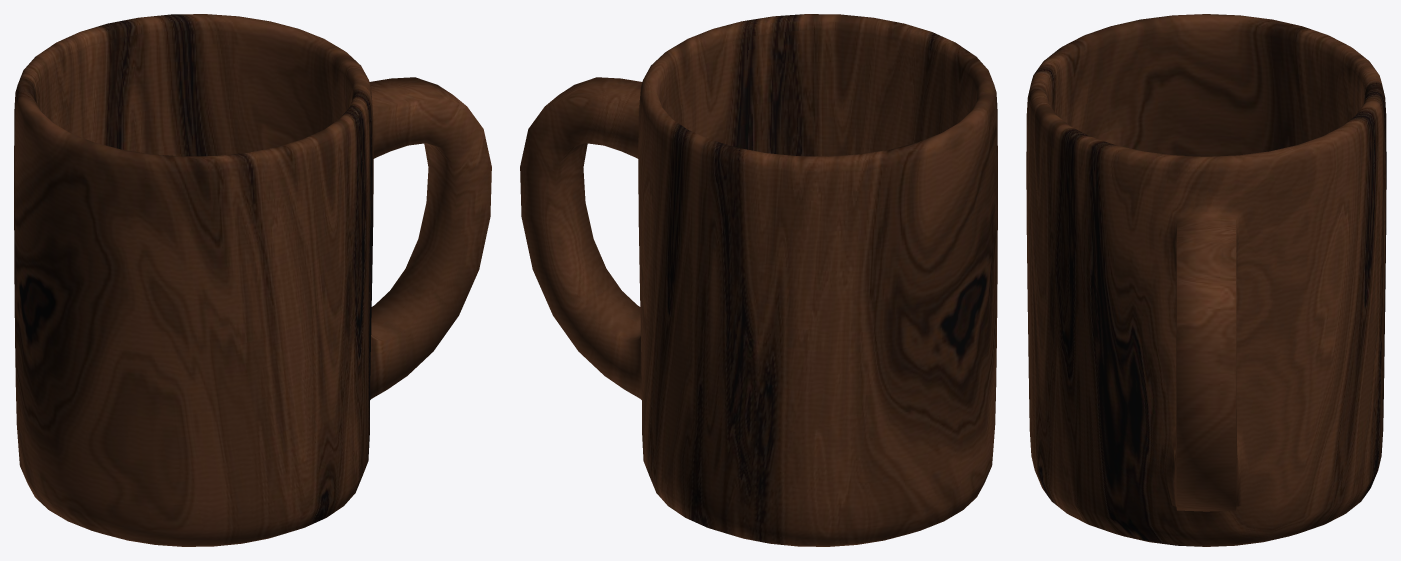
The model's file is Cup_1.fbx.
The picture shows the model from 3 angles, left to right: view 1: azimuth 30°, elevation 25°; view 2: azimuth 150°, elevation 25°; view 3: azimuth 270°, elevation 25°; orthographic projection.
Parts seen in each view (by area): view 1: cup03; view 2: cup03; view 3: cup03.
Part boxes in pixels (bbox=[...]): cup03: bbox=[14, 14, 491, 546]; cup03: bbox=[520, 14, 997, 546]; cup03: bbox=[1026, 14, 1386, 546].
Size of the model in its own units: 157 by 138 by 112.
Materials: 1 (1 with a texture image).
